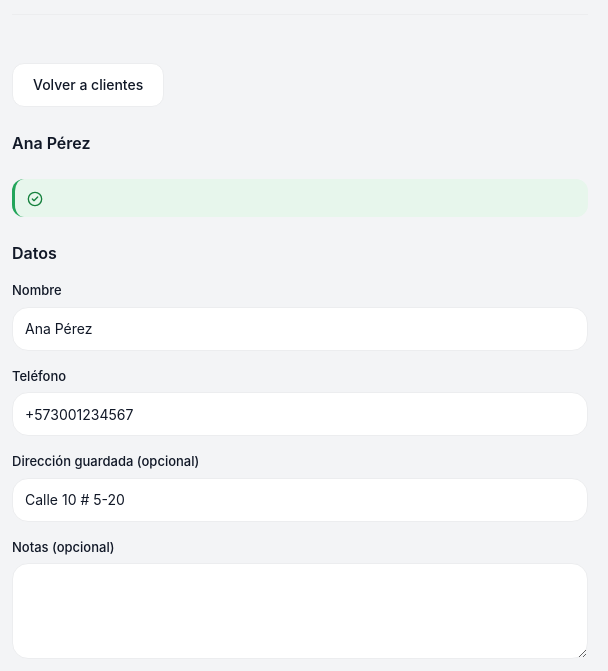
Test: CustomerDetailPage: edición › guarda solo los campos modificados y confirma
The width and height of the screenshot is (608, 671).
Replace the text in the field labelled "Nombre" with "Ana María Pérez" at x=300, y=328, box [12,306,588,350]
(page scrolled)
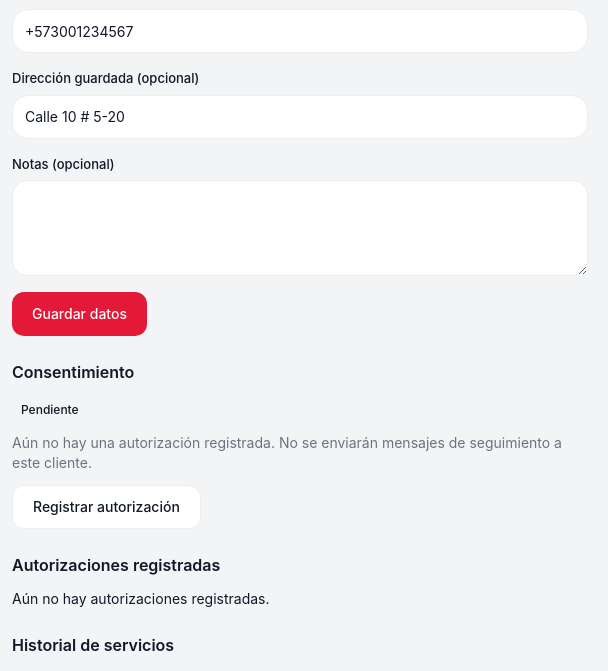
Click the button "Guardar datos" at x=80, y=314, box [12,292,147,336]
(page scrolled)
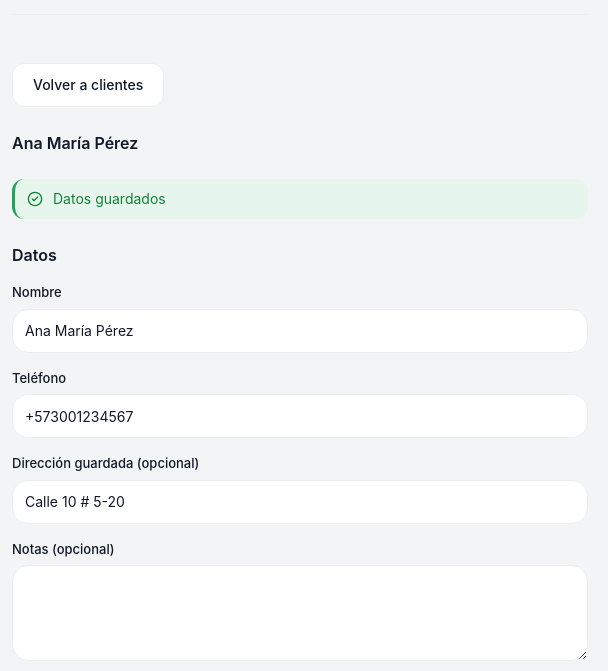
Expected: the text "Datos guardados" is shown, [53,190,166,207]
